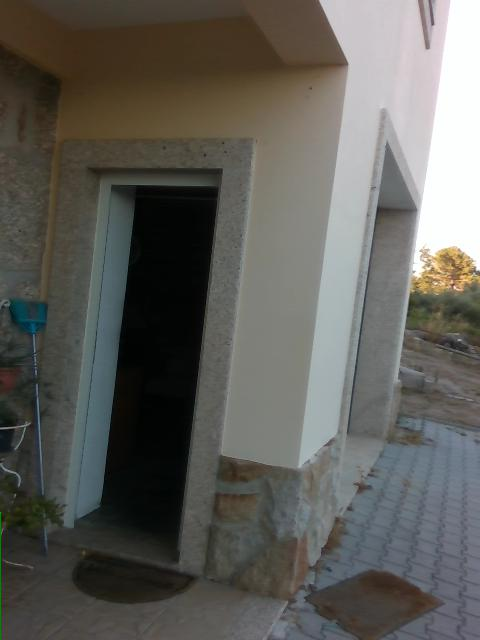open_door: (59, 166, 222, 570)
